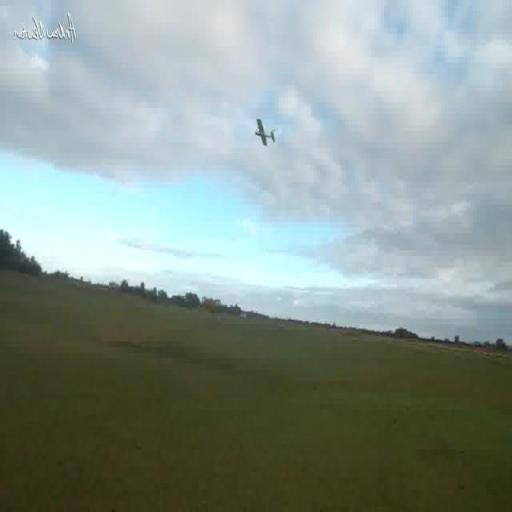uav: (248, 102, 294, 156)
